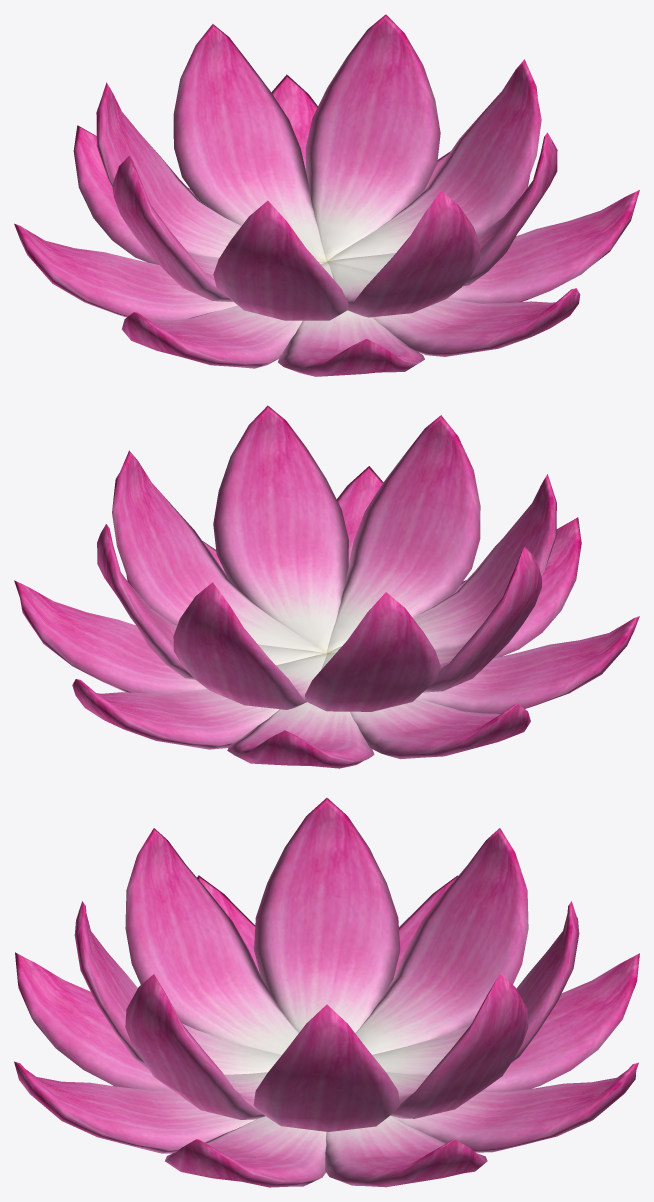
The model's file is Lotus.fbx.
3 views of the same model, one above another, from view 1: azimuth 30°, elevation 25°; view 2: azimuth 150°, elevation 25°; view 3: azimuth 270°, elevation 25° (orthographic). The views are drawn at different scales.
Visible parts, largest first — view 1: petal_2, petal_3, petal_1, petal_6, petal_7, petal_13, petal_9, petal_4, petal_16, petal_14, petal_15, petal_5 (+3 smaller); view 2: petal_8, petal_7, petal_1, petal_4, petal_3, petal_10, petal_14, petal_11, petal_6, petal_13, petal_12, petal_5 (+3 smaller); view 3: petal_5, petal_6, petal_4, petal_1, petal_16, petal_11, petal_2, petal_8, petal_12, petal_15, petal_9, petal_10 (+4 smaller).
Boxes of the visible parts, <box> form: petal_2: <box>305,14,440,261</box>; petal_3: <box>173,24,326,261</box>; petal_1: <box>327,59,541,261</box>; petal_6: <box>213,200,348,320</box>; petal_7: <box>327,191,480,317</box>; petal_13: <box>14,223,237,321</box>; petal_9: <box>447,190,639,303</box>; petal_4: <box>96,82,325,261</box>; petal_16: <box>373,288,580,356</box>; petal_14: <box>122,305,302,368</box>; petal_15: <box>278,310,424,376</box>; petal_5: <box>112,155,326,301</box>; petal_8: <box>213,405,348,652</box>; petal_7: <box>326,415,480,652</box>; petal_1: <box>112,450,325,653</box>; petal_4: <box>305,592,440,711</box>; petal_3: <box>173,582,327,709</box>; petal_10: <box>14,580,206,693</box>; petal_14: <box>417,616,639,713</box>; petal_11: <box>72,679,279,749</box>; petal_6: <box>327,474,556,652</box>; petal_13: <box>350,698,530,759</box>; petal_12: <box>227,702,374,768</box>; petal_5: <box>327,547,541,692</box>; petal_5: <box>254,798,400,1032</box>; petal_6: <box>125,828,298,1054</box>; petal_4: <box>355,828,528,1054</box>; petal_1: <box>253,1004,399,1131</box>; petal_16: <box>14,1061,255,1153</box>; petal_11: <box>390,1062,638,1152</box>; petal_2: <box>386,974,528,1118</box>; petal_8: <box>125,974,267,1119</box>; petal_12: <box>481,953,639,1092</box>; petal_15: <box>15,952,171,1090</box>; petal_9: <box>165,1116,326,1187</box>; petal_10: <box>325,1116,487,1187</box>.
Size of the model in its own units: 11.89 by 4.44 by 11.89.
1 material, 1 textured.
